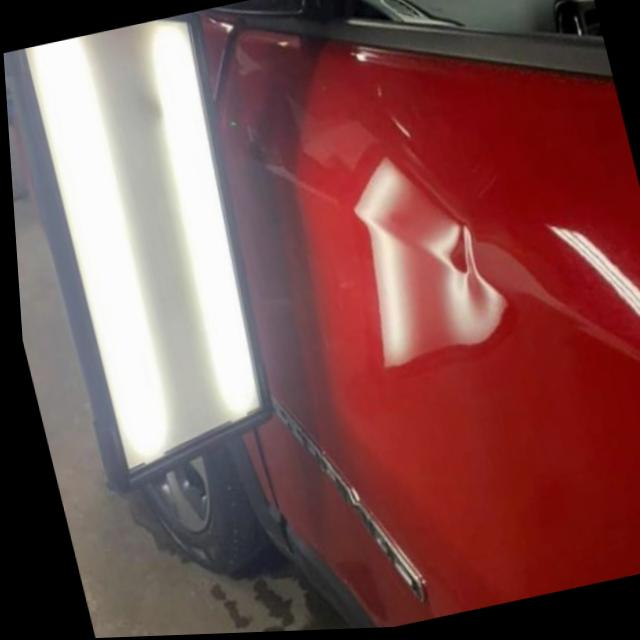PDR-Dent: (414, 202, 511, 341)
